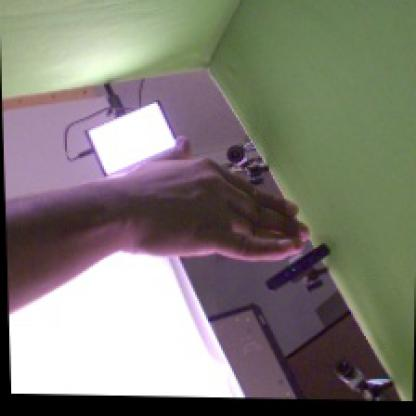Hand: (109, 137, 311, 263)
